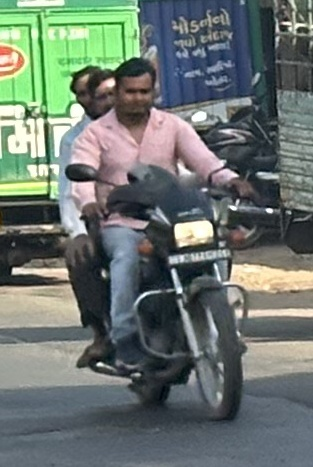BikeWithRider: (49, 53, 263, 434)
NoHelmet: (115, 56, 158, 118), (67, 60, 105, 119), (87, 68, 120, 130)
